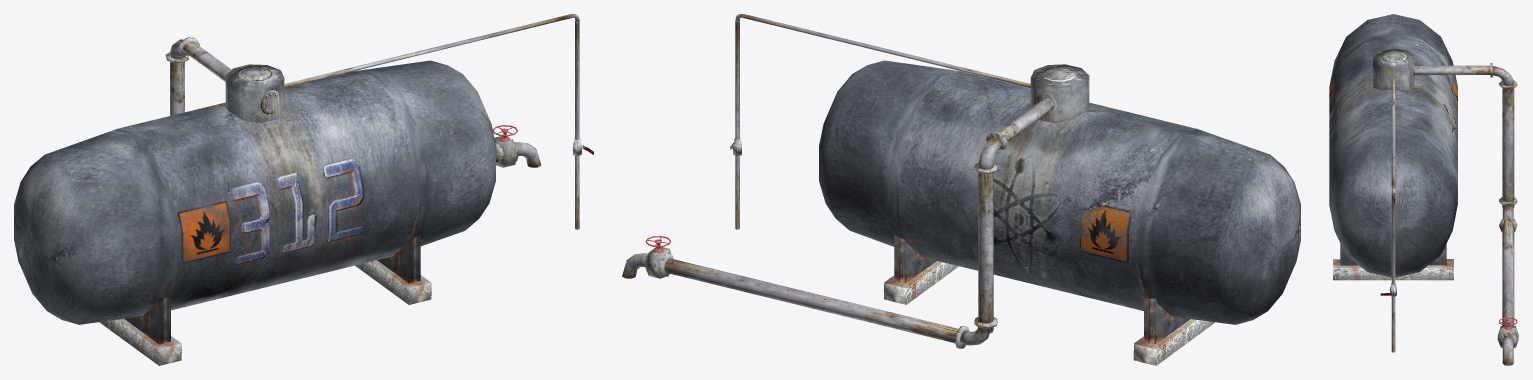
File: tank_finally.glb
3 views of the same model, side by side, from view 1: azimuth 30°, elevation 25°; view 2: azimuth 150°, elevation 25°; view 3: azimuth 270°, elevation 25° (orthographic). The views are drawn at different scales.
Parts seen in each view (by area): view 1: Long_Tank1:Long_TankA_Long_Tank:Long_TankA_Material_0, Long_Tank:Round_Valve1_Long_Tank:lambert3_0; view 2: Long_Tank1:Long_TankA_Long_Tank:Long_TankA_Material_0, Long_Tank:Round_Valve1_Long_Tank:lambert3_0; view 3: Long_Tank1:Long_TankA_Long_Tank:Long_TankA_Material_0, Long_Tank:Round_Valve1_Long_Tank:lambert3_0.
Boxes of the visible parts, x1=… form: Long_Tank1:Long_TankA_Long_Tank:Long_TankA_Material_0: x1=14, y1=14, x2=593, y2=365; Long_Tank:Round_Valve1_Long_Tank:lambert3_0: x1=492, y1=125, x2=517, y2=167; Long_Tank1:Long_TankA_Long_Tank:Long_TankA_Material_0: x1=622, y1=14, x2=1300, y2=365; Long_Tank:Round_Valve1_Long_Tank:lambert3_0: x1=645, y1=236, x2=670, y2=278; Long_Tank1:Long_TankA_Long_Tank:Long_TankA_Material_0: x1=1329, y1=14, x2=1517, y2=365; Long_Tank:Round_Valve1_Long_Tank:lambert3_0: x1=1497, y1=317, x2=1518, y2=347.
Size of the model in its own units: 7.9 by 3.05 by 2.94.
Materials: 2 (2 with a texture image).
